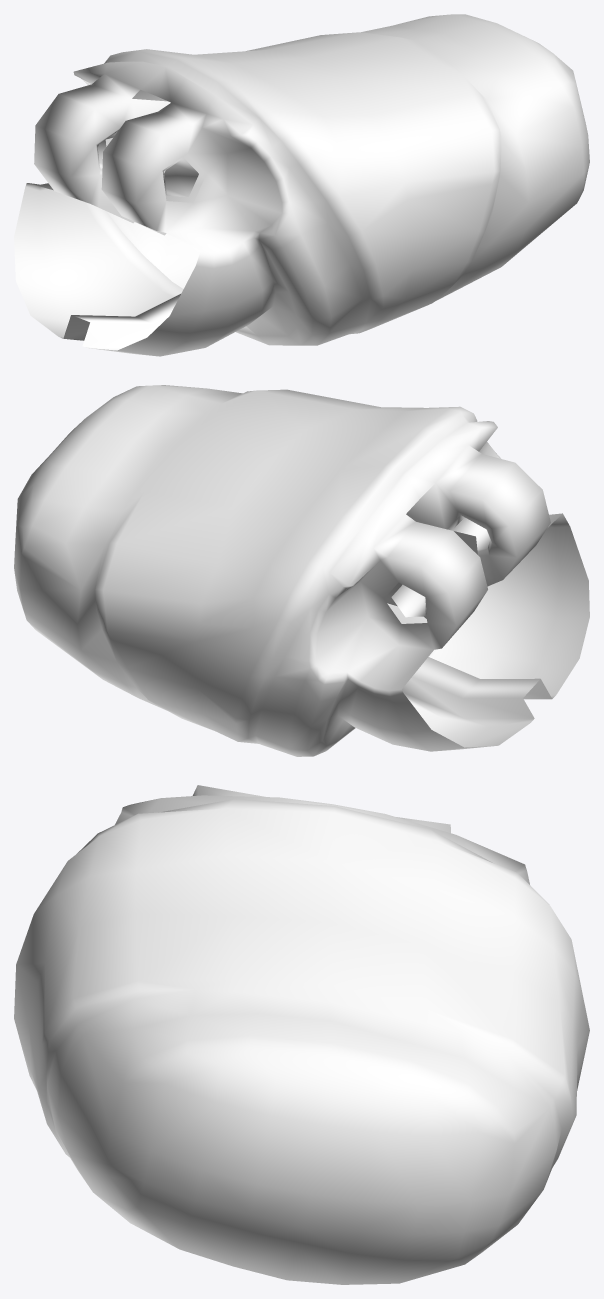
Rendered from RFinger13.dae.
3 renders of one model, top to bottom at view 1: azimuth 30°, elevation 25°; view 2: azimuth 150°, elevation 25°; view 3: azimuth 270°, elevation 25°, orthographic. The views are drawn at different scales.
Parts seen in each view (by area): view 1: RFinger13; view 2: RFinger13; view 3: RFinger13.
Boxes of the visible parts, x1,y1,x2,y2 form: RFinger13: (14,14,589,356); RFinger13: (14,385,589,756); RFinger13: (14,785,589,1284).
Bounding box in the file's own units: 0.204 × 0.1613 × 0.1124.
Materials: 1 (1 with a texture image).
